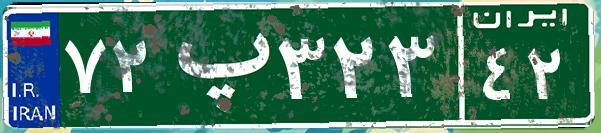2: (330, 28, 385, 110), (110, 28, 158, 105), (525, 38, 570, 115)
3: (385, 28, 445, 110), (273, 28, 330, 110)
4: (475, 38, 525, 113)
7: (57, 26, 110, 107)
پ: (158, 15, 273, 115)
